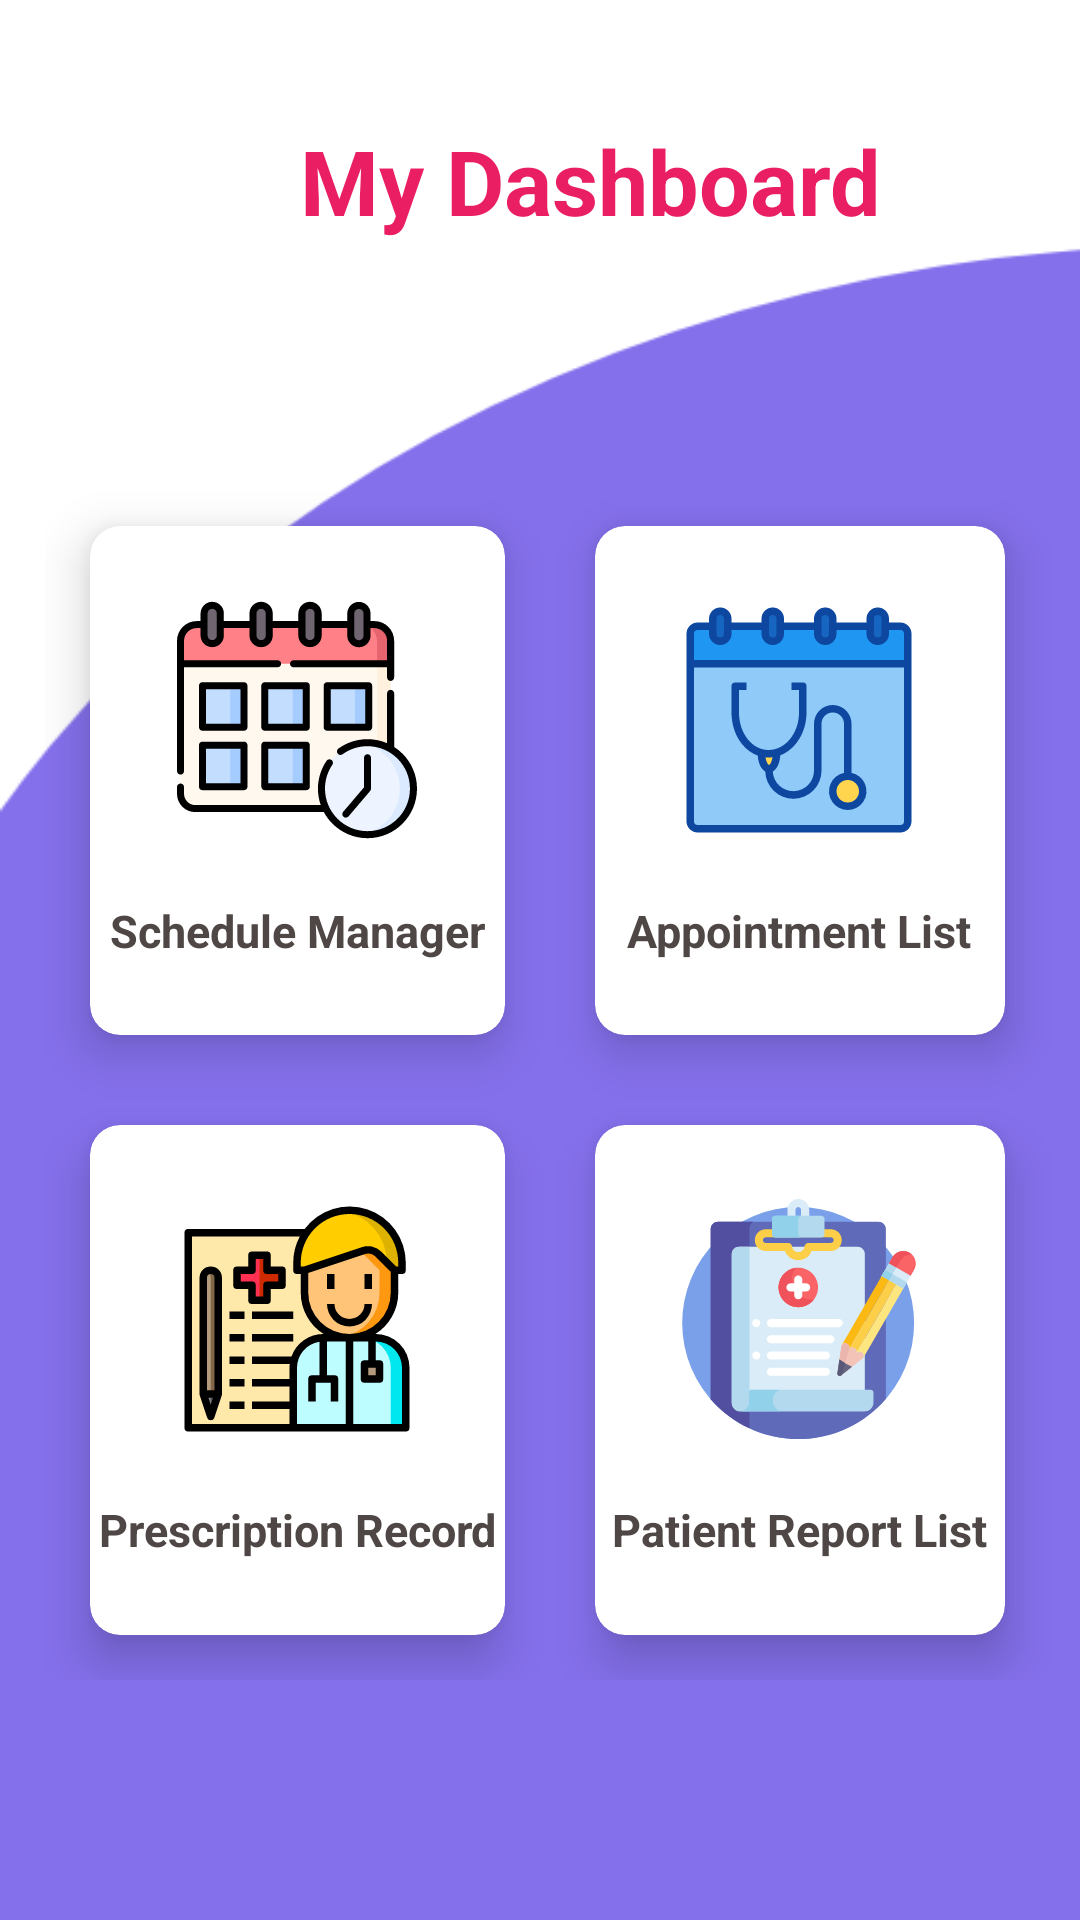

Point at icon controls on the screen. Image size 1080×1920, points as [x,y].
checkup: [799,720]
